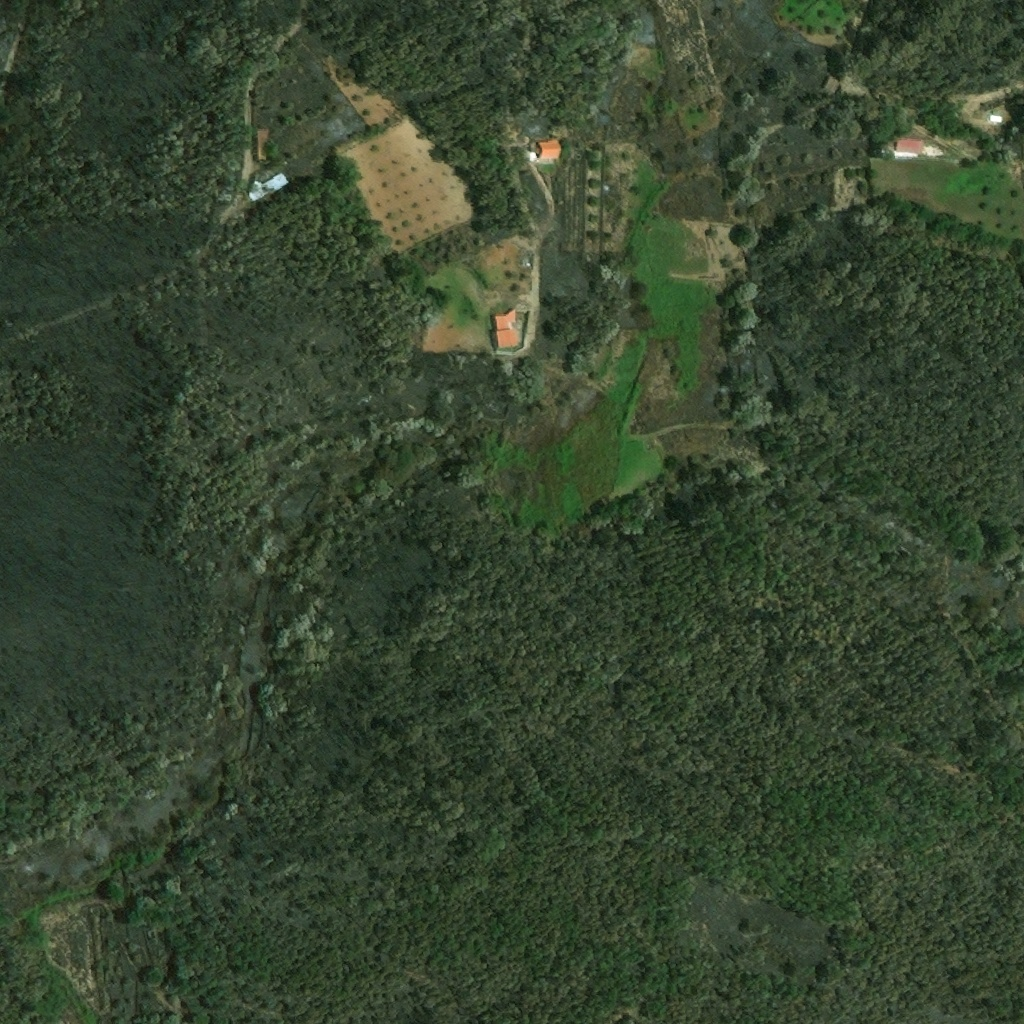0 no-damage: (249, 171, 290, 202), (491, 308, 519, 349), (885, 137, 924, 158), (538, 138, 563, 159), (257, 129, 270, 160), (522, 256, 531, 266), (994, 116, 1002, 124)
3 destroyed: (821, 74, 840, 94)
